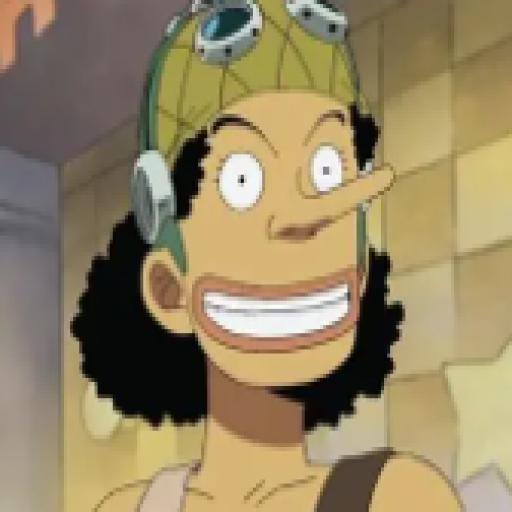Usopp: (55, 6, 472, 512)
